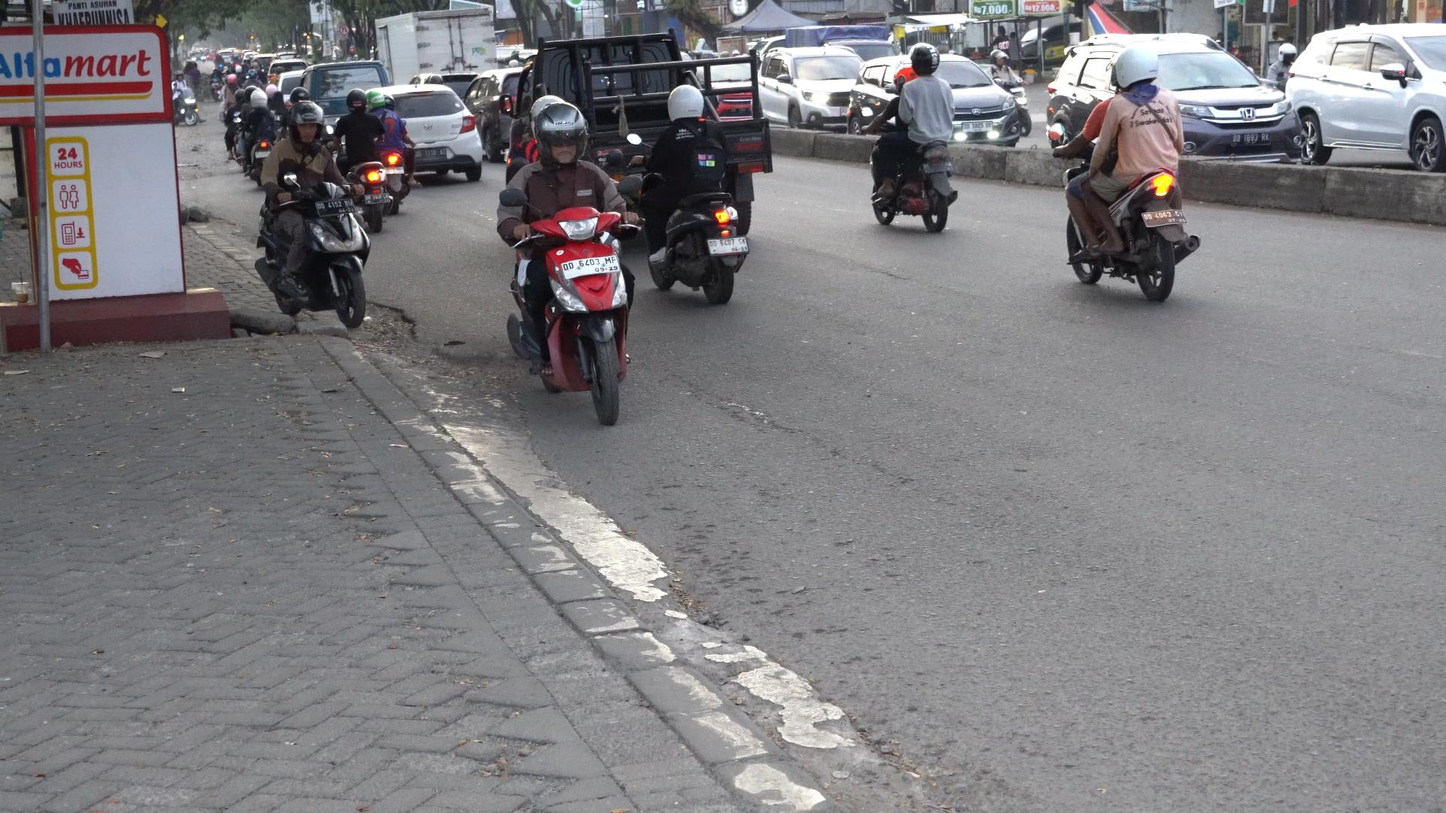number-plate: (557, 256, 619, 279), (312, 193, 357, 221)
